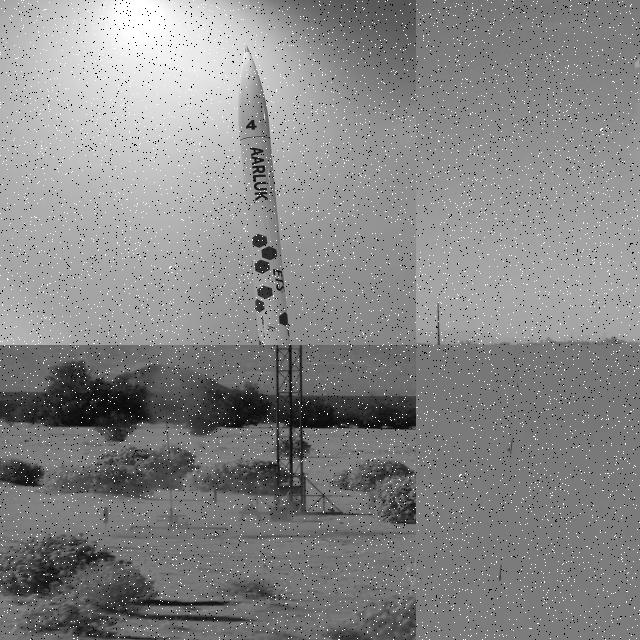Rocket: (237, 45, 291, 345), (633, 0, 640, 70), (499, 564, 502, 580)
